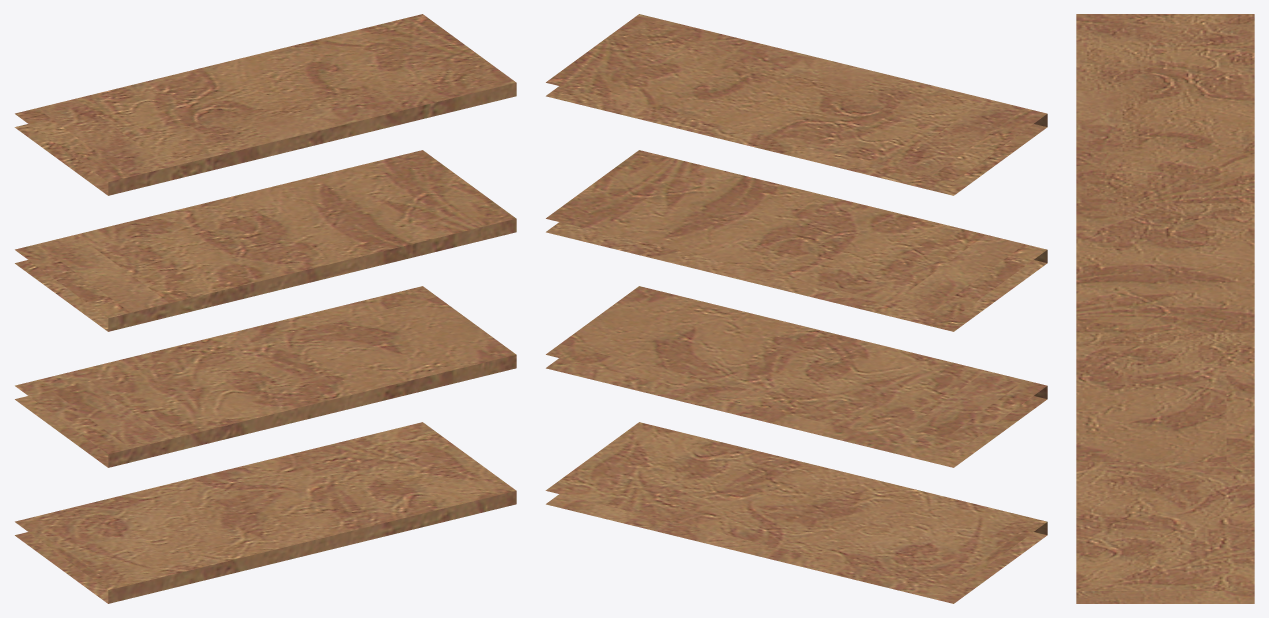
File: Room_301_0_1.obj
3 views of the same model, side by side, from view 1: azimuth 30°, elevation 25°; view 2: azimuth 150°, elevation 25°; view 3: azimuth 270°, elevation 25° (orthographic). The views are drawn at different scales.
Parts seen in each view (by area): view 1: 301_Shelf; view 2: 301_Shelf; view 3: 301_Shelf.
Part boxes in pixels (x1,y1,x2,y2): 301_Shelf: (14,14,516,603); 301_Shelf: (545,14,1047,603); 301_Shelf: (1076,14,1254,603).
Size of the model in its own units: 1.48 by 1.46 by 0.5906.
1 material, 1 textured.
